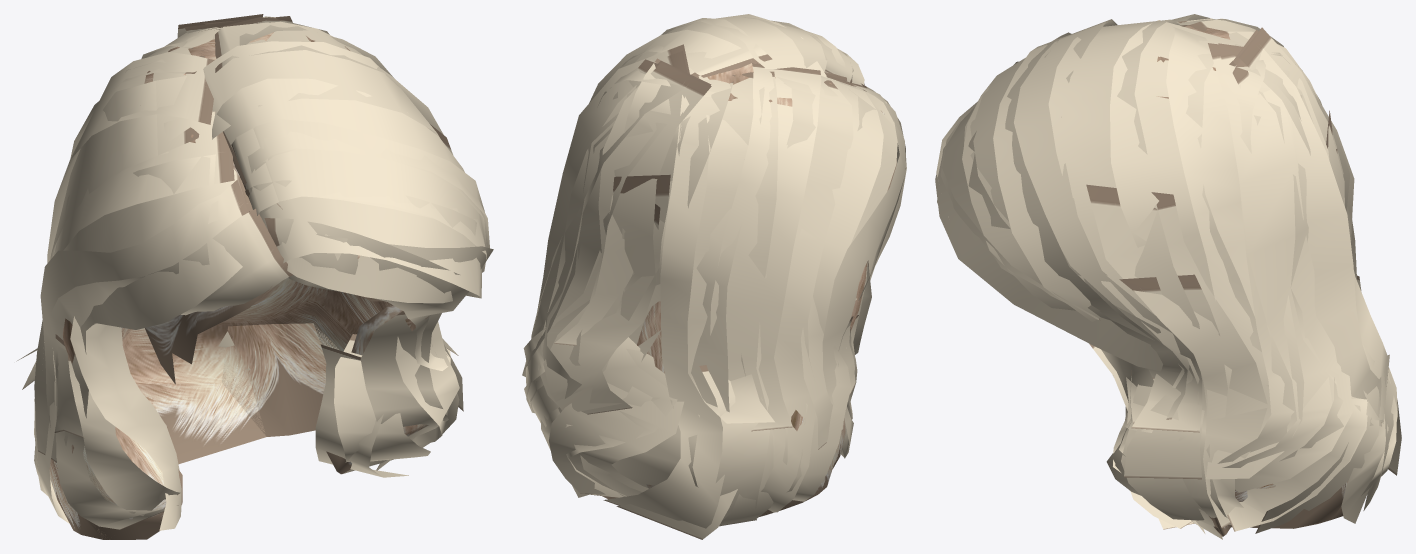
The model's file is hair_006.obj.
3 renders of one model, left to right at view 1: azimuth 30°, elevation 25°; view 2: azimuth 150°, elevation 25°; view 3: azimuth 270°, elevation 25°, orthographic. The views are drawn at different scales.
Size of the model in its own units: 23.26 by 29.9 by 27.04.
